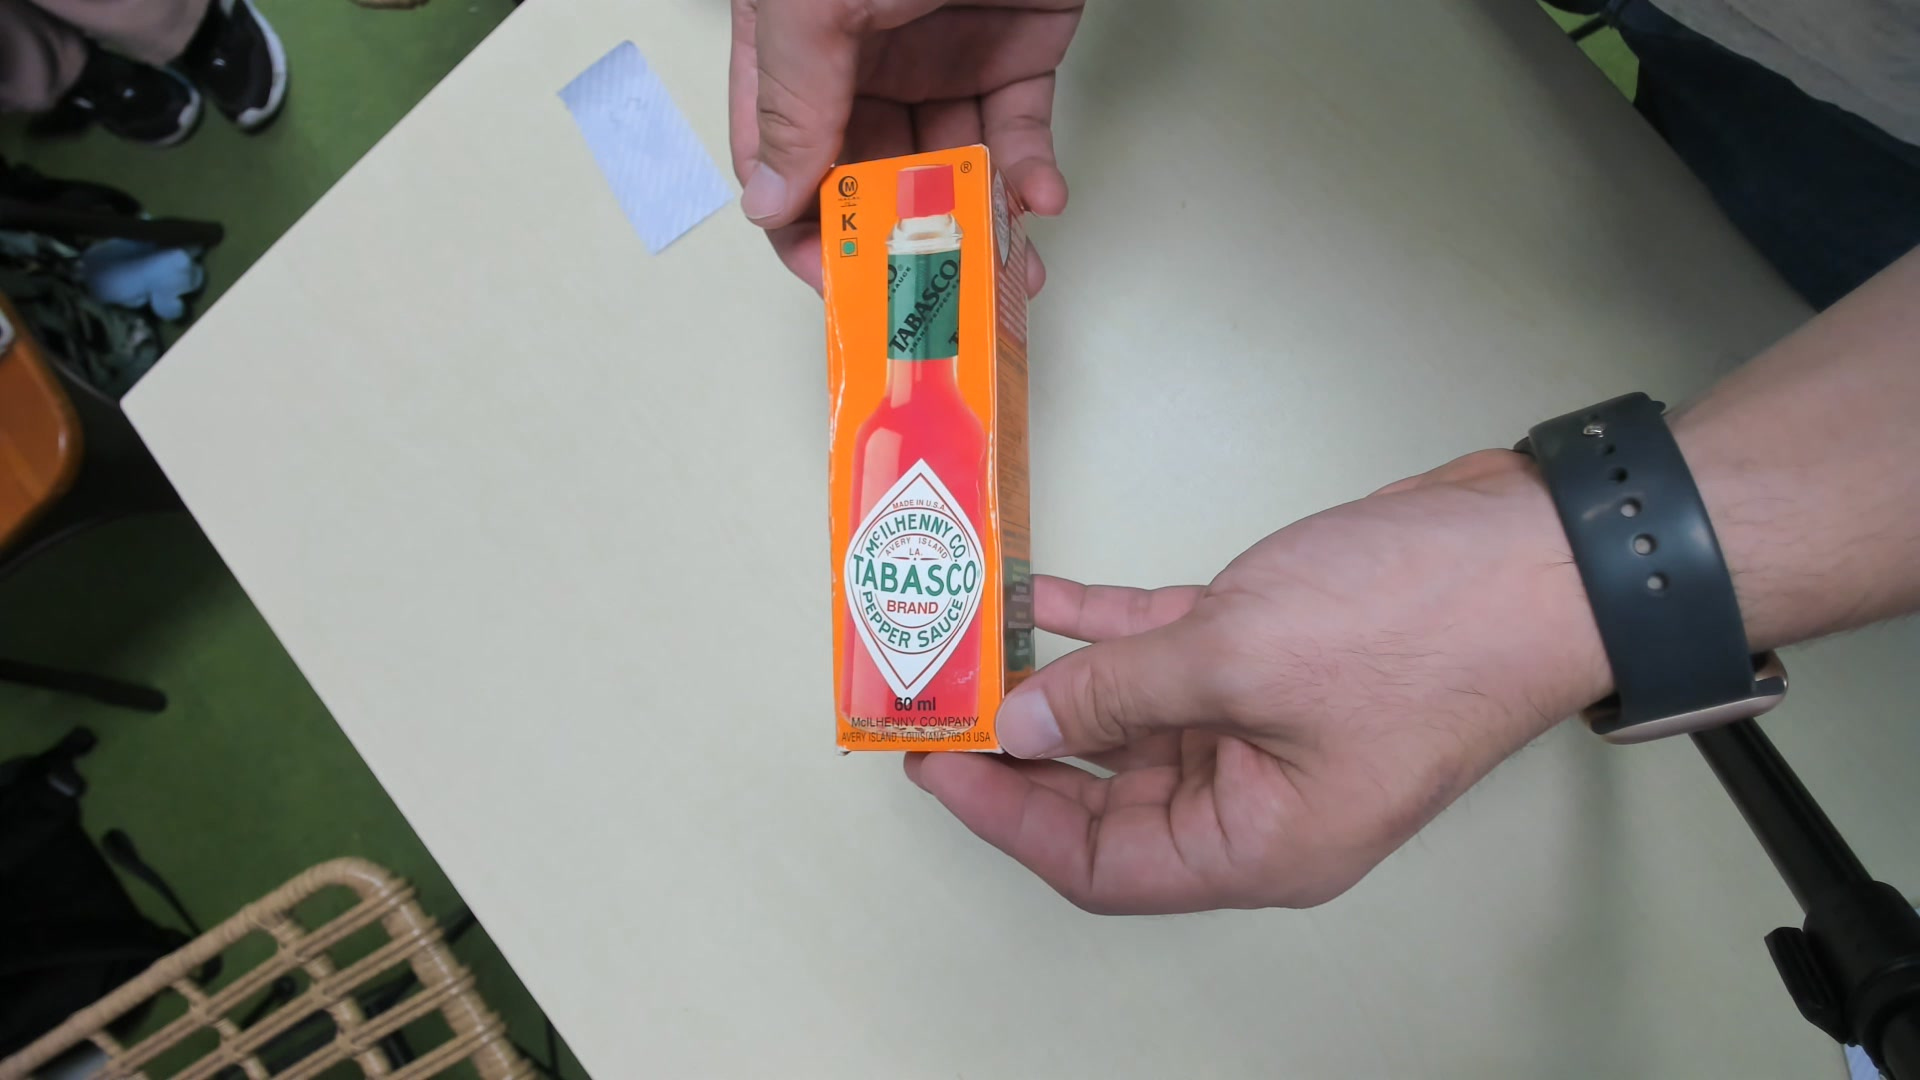KetchupChillSauce_0-99g_NonHalal_NonHealthy: (825, 140, 1040, 766)
